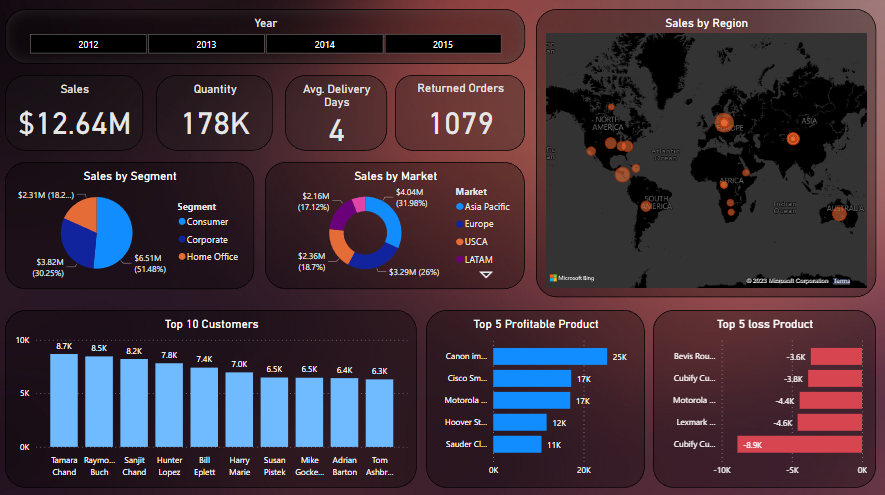

The page's visual inventory and layout, read from the dashboard file:
{"tool":"powerbi","page":{"name":"Page 1","canvas":[1280,720],"ordinal":0},"visuals":[{"type":"card","title":"Sales","fields":{"Values":["Orders.Sales"]},"box":[11.5,113.8,198.7,109.4],"z":0},{"type":"card","title":"Quantity","fields":{"Values":["Orders.Quantity"]},"box":[229,113.8,168.5,109.4],"z":1000},{"type":"card","title":"Avg. Delivery Days","fields":{"Values":["Orders.Delivery Days"]},"box":[414.7,113.8,146.9,109.4],"z":2000},{"type":"slicer","title":"Year","fields":{"Values":["Orders.Year"]},"box":[11.5,18.7,748.8,79.2],"z":3000},{"type":"card","title":"Returned Orders","fields":{"Values":["Returns.Return Orders"]},"box":[573.1,113.8,187.2,109.4],"z":4000},{"type":"map","title":"Sales by Region","fields":{"Category":["Orders.Region"],"Size":["Orders.Sales"]},"box":[776.2,18.7,489.6,414.7],"z":5000},{"type":"barChart","title":"Top 5 Profitable Product","fields":{"Y":["Orders.Profit"],"Category":["Orders.Product Name"]},"box":[617.8,452.2,315.4,256.3],"z":6000},{"type":"barChart","title":"Top 5 loss Product","fields":{"Y":["Orders.Profit"],"Category":["Orders.Product Name"]},"box":[944.6,452.2,321.1,256.3],"z":7000},{"type":"pieChart","title":"Sales by Segment","fields":{"Category":["Orders.Segment"],"Y":["Orders.Sales"]},"box":[11.5,239,358.6,182.9],"z":8000},{"type":"donutChart","title":"Sales by Market","fields":{"Y":["Orders.Sales"],"Category":["Orders.Market"]},"box":[385.9,239,374.4,182.9],"z":9000},{"type":"columnChart","title":"Top 10 Customers","fields":{"Category":["Orders.Customer Name"],"Y":["Orders.Profit"]},"box":[11.5,452.2,593.3,256.3],"z":9001}]}

Visuals, with their boxes in screenshot pixels (x1, y1, x2, y2), scaled from the page's 1280x720 canvas onto the 885x495 screenshot:
"Sales" card: 8 78 145 153
"Quantity" card: 158 78 275 153
"Avg. Delivery Days" card: 287 78 388 153
"Year" slicer: 8 13 526 67
"Returned Orders" card: 396 78 526 153
"Sales by Region" map: 537 13 875 298
"Top 5 Profitable Product" barChart: 427 311 645 487
"Top 5 loss Product" barChart: 653 311 875 487
"Sales by Segment" pieChart: 8 164 256 290
"Sales by Market" donutChart: 267 164 526 290
"Top 10 Customers" columnChart: 8 311 418 487
